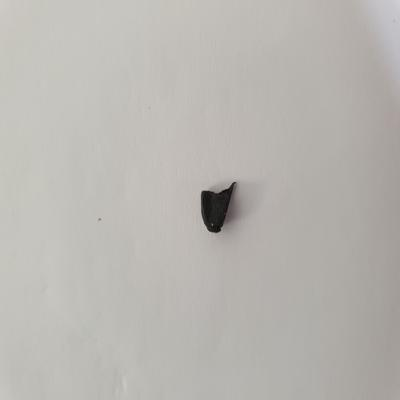plastic: (196, 175, 243, 238)
